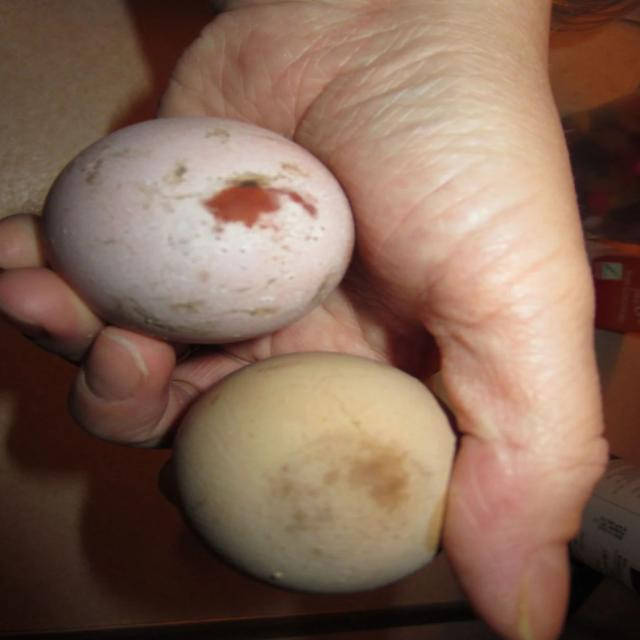Blood Stained Egg: (0, 114, 389, 348), (142, 340, 469, 587)
